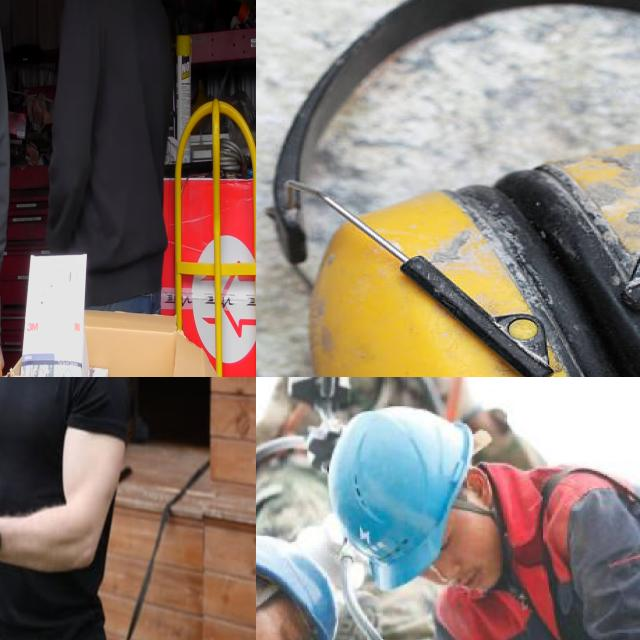Ear-protection: (256, 0, 640, 377)
No_Ear-Protection: (463, 465, 496, 514)
face_nomask: (428, 535, 501, 595)
head_helmet: (330, 407, 472, 588), (256, 537, 337, 640)
person: (34, 0, 163, 318)
